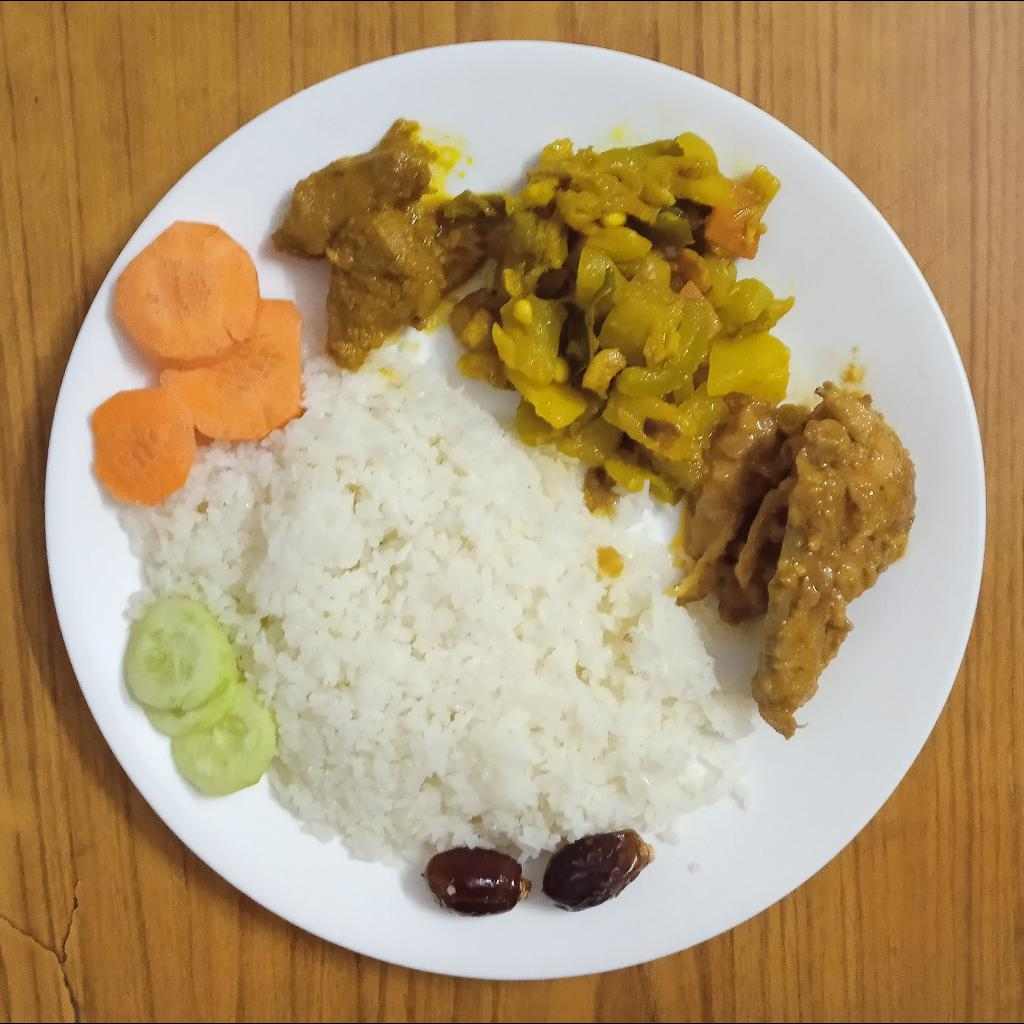beef: (271, 117, 497, 362)
carrot: (91, 222, 301, 502)
chicken: (684, 381, 916, 742)
cucumber: (123, 597, 277, 800)
rice: (121, 342, 753, 862)
vegetable: (447, 132, 796, 503)
